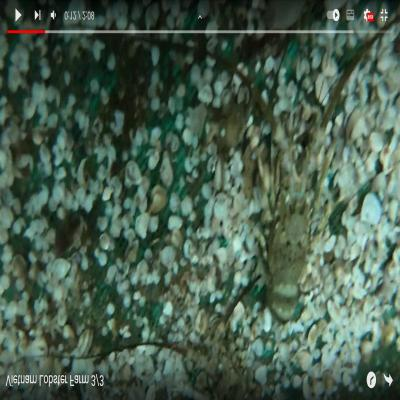lobster: (264, 141, 316, 315)
